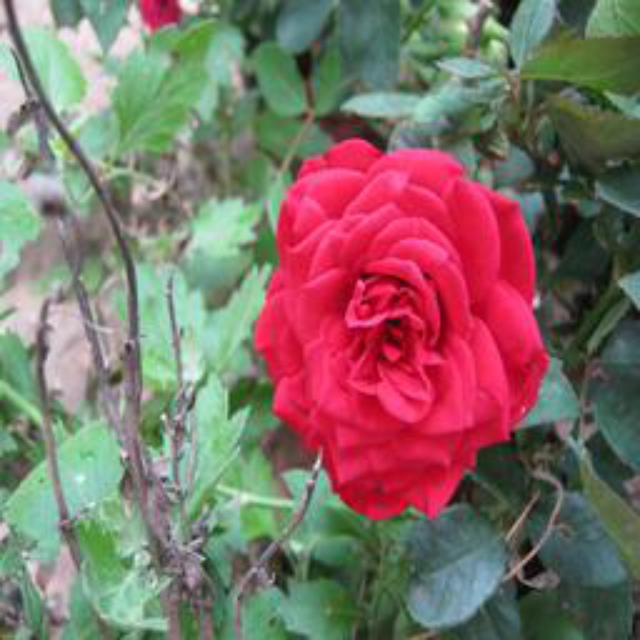rose: (250, 135, 551, 531)
